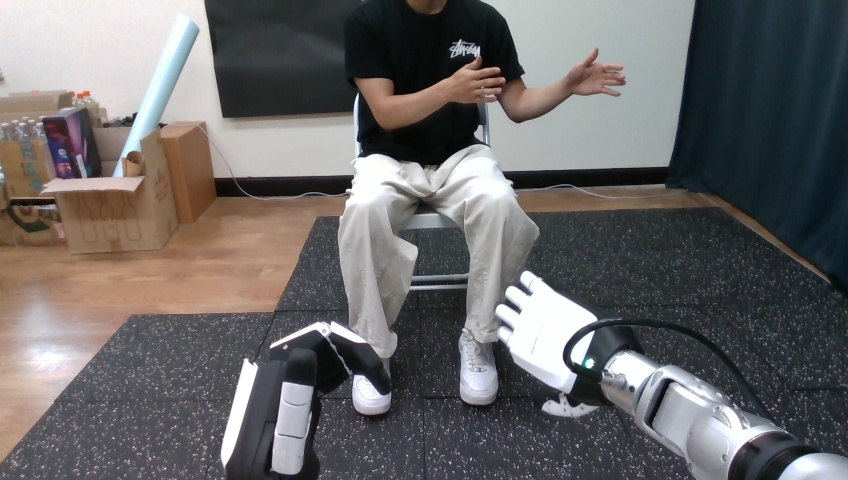left robot hand: (496, 271, 847, 479), (221, 322, 390, 479), (443, 56, 506, 103), (564, 48, 625, 96)
